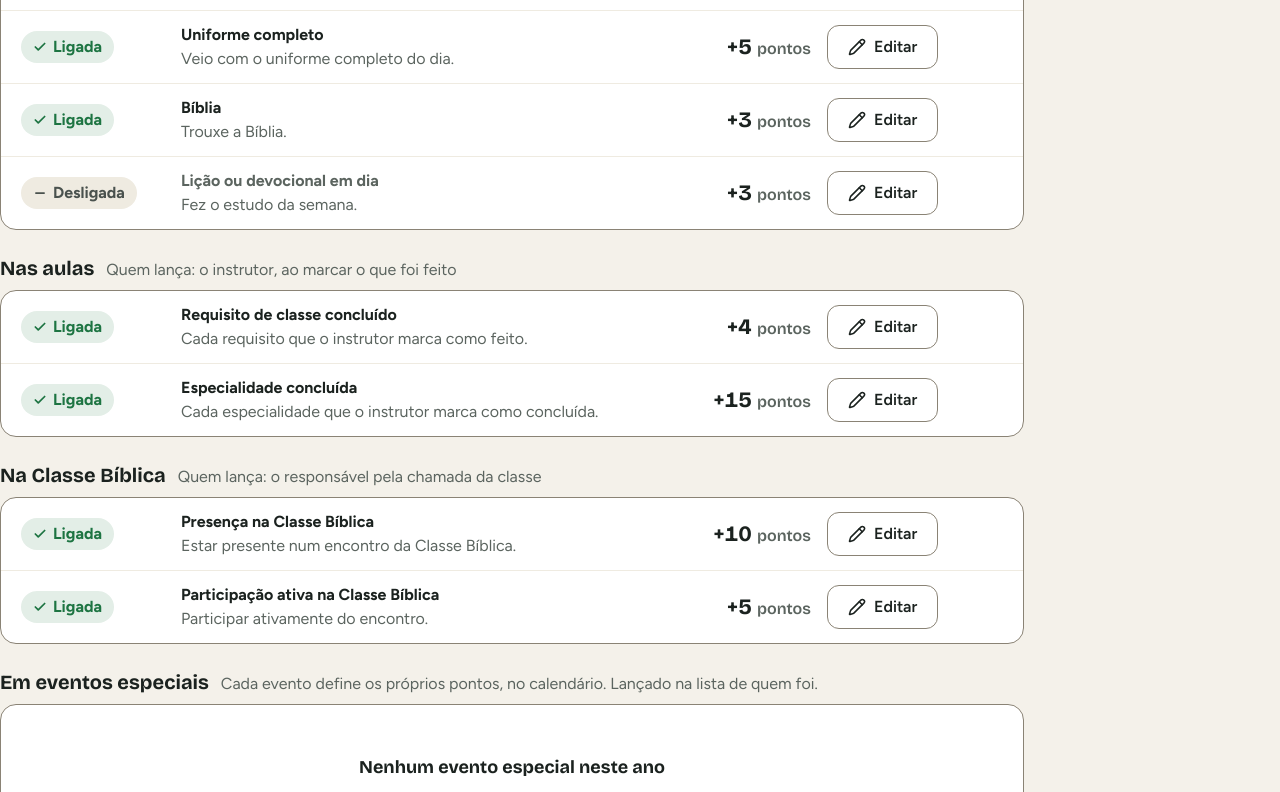
Painel da regra · caixa de efeito › fora da reunião o texto é o de cada vez que acontecer
The image size is (1280, 792).
(page scrolled)
Click the button "Editar" in the row of "Especialidade concluída": (883, 400) [827, 378, 938, 422]
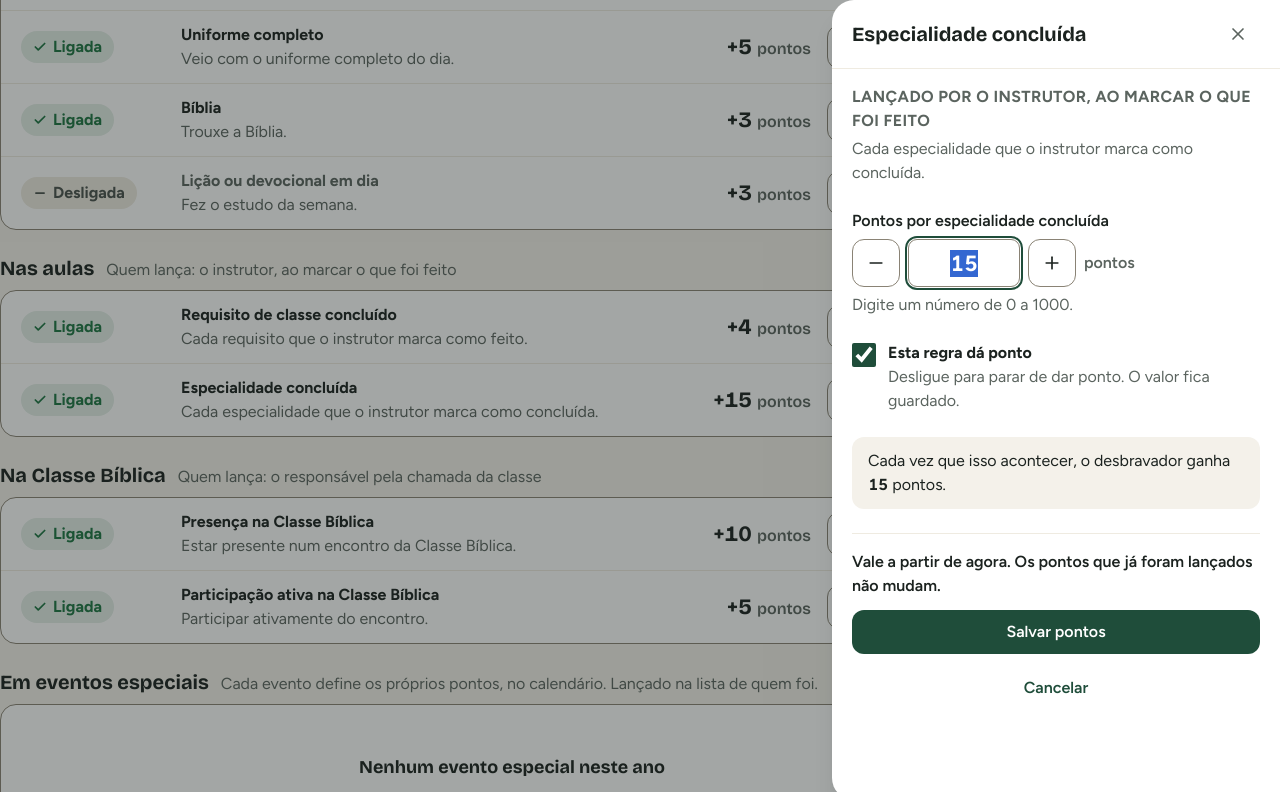
expect the text "Cada vez que isso acontecer, o desbravador ganha 15 pontos." is shown: met, box [852, 437, 1260, 509]
